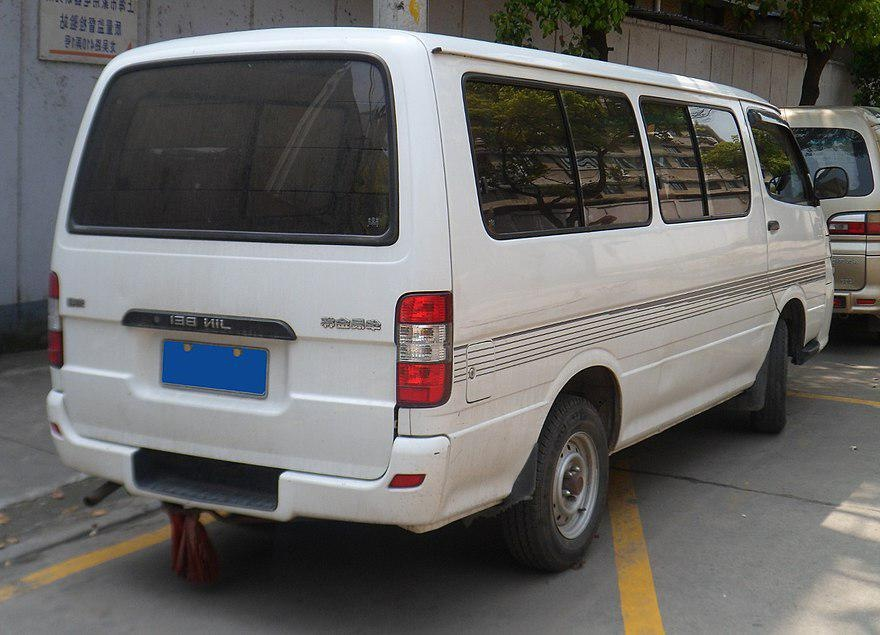van: (37, 37, 829, 560)
